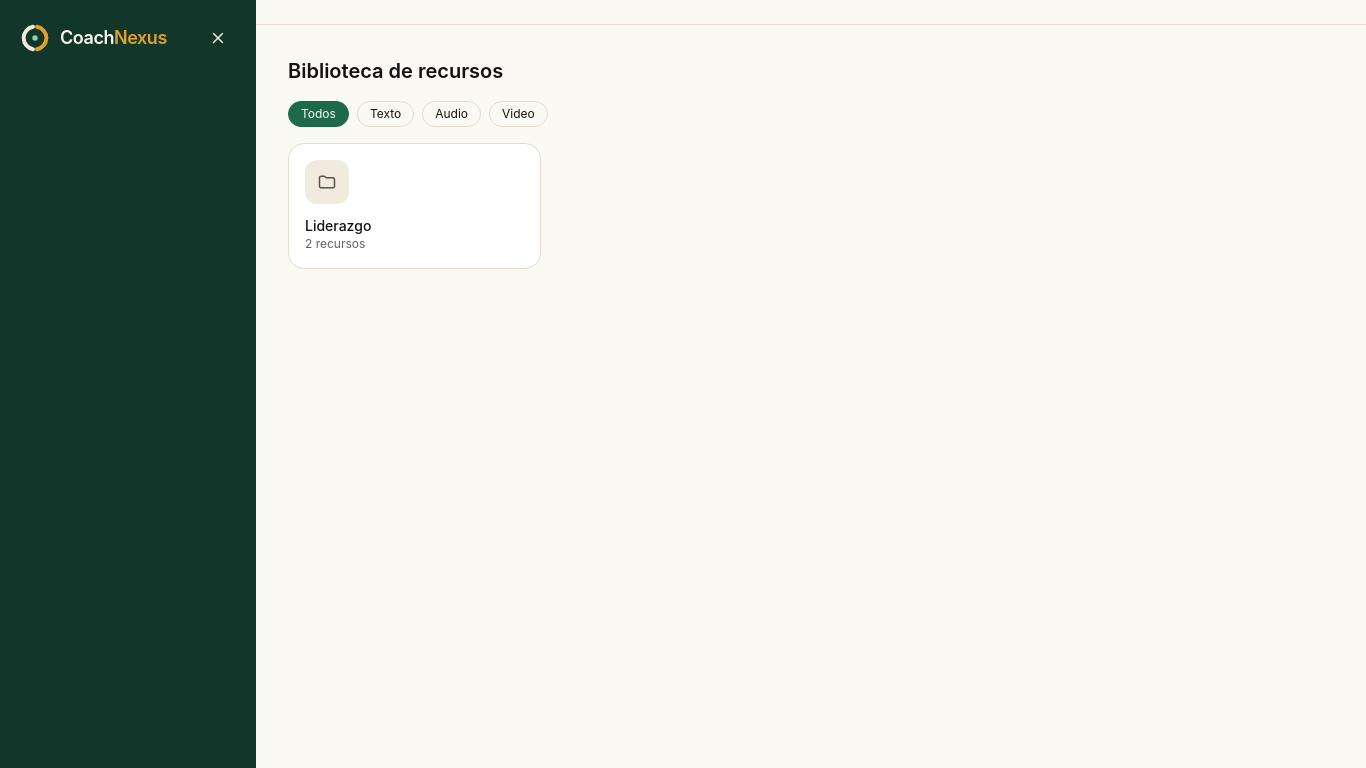
Test case: BibliotecaView › navigates into a folder and shows only its own resources, plus its subfolders
This screenshot has width=1366, height=768.
Click the button "Liderazgo 2 recursos".
click(414, 206)  # box [288, 143, 540, 269]
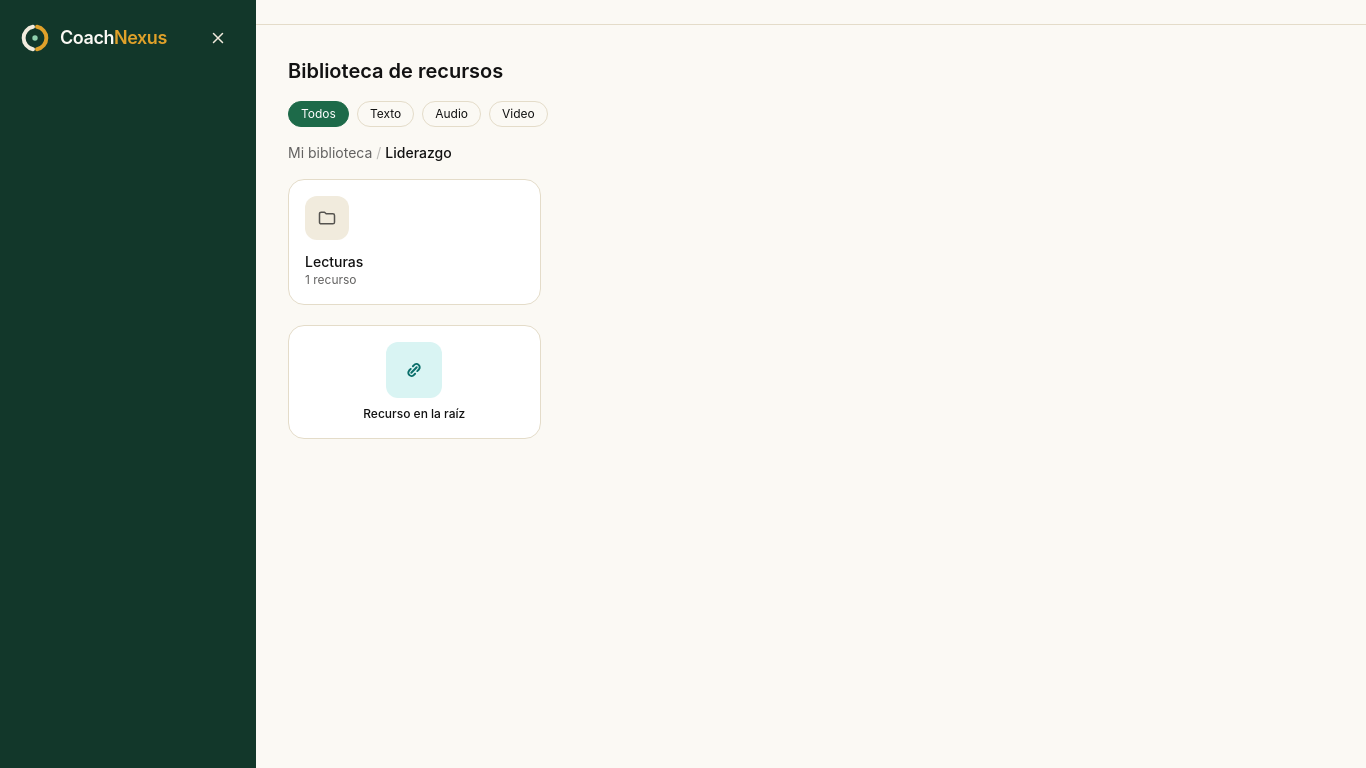
Result: the text "Recurso en la raíz" is shown at [363, 406, 465, 422]
Result: the text "Lecturas" is shown at [305, 252, 363, 272]
